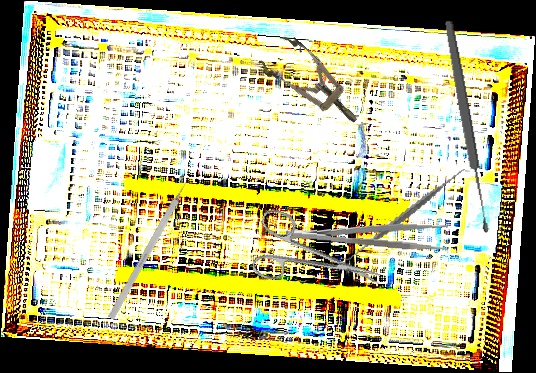Dressing Forceps: (285, 213, 449, 253)
Hook Surgical: (107, 171, 195, 320)
Iris Scissors: (244, 206, 391, 314)
Spatula Surgical: (339, 147, 471, 283)
Speculum: (255, 30, 371, 139)
Surgical Spoon: (441, 19, 493, 234)
